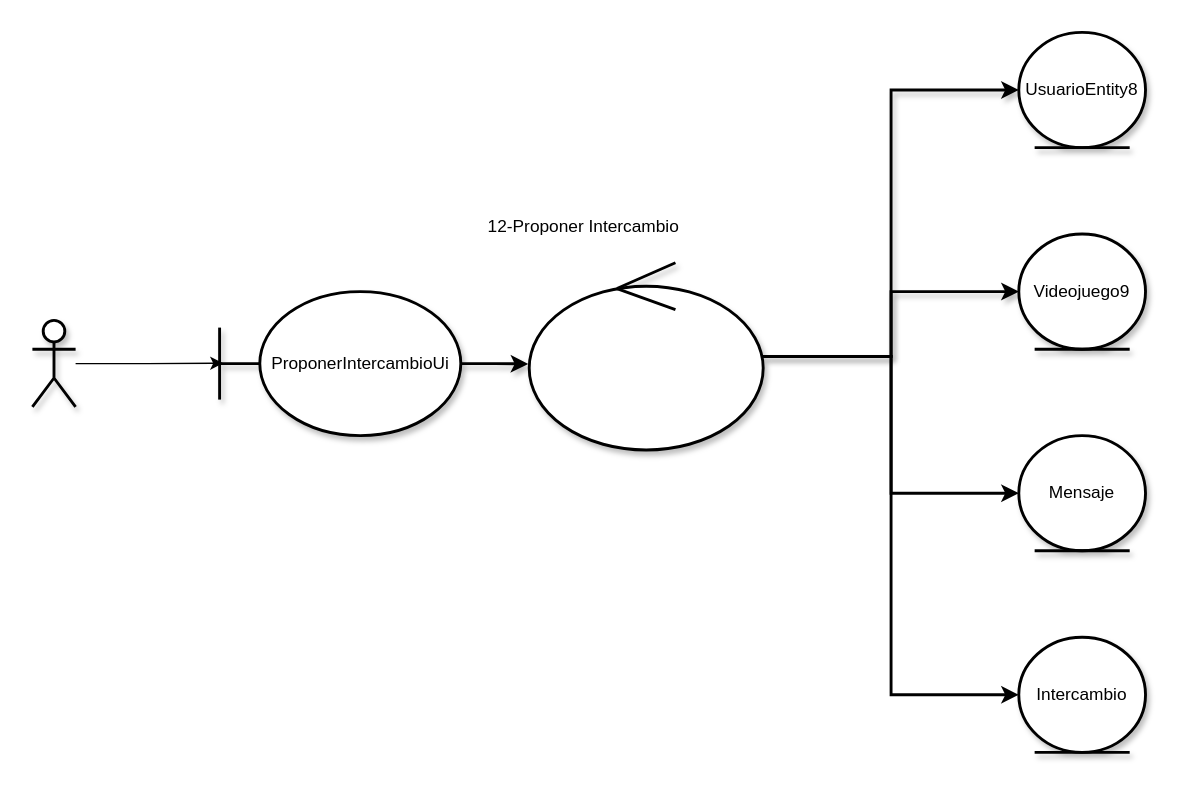
The diagram is 1181 pixels wide and 788 high, and some of its shapes have lost their labels. The shapes that lost their labels are listed below. From the top down, each one's centre as x and y in pixels, then its label:
At [54,365]: "Usuario".
At [647,358]: "ProponerIntercambioAction".
